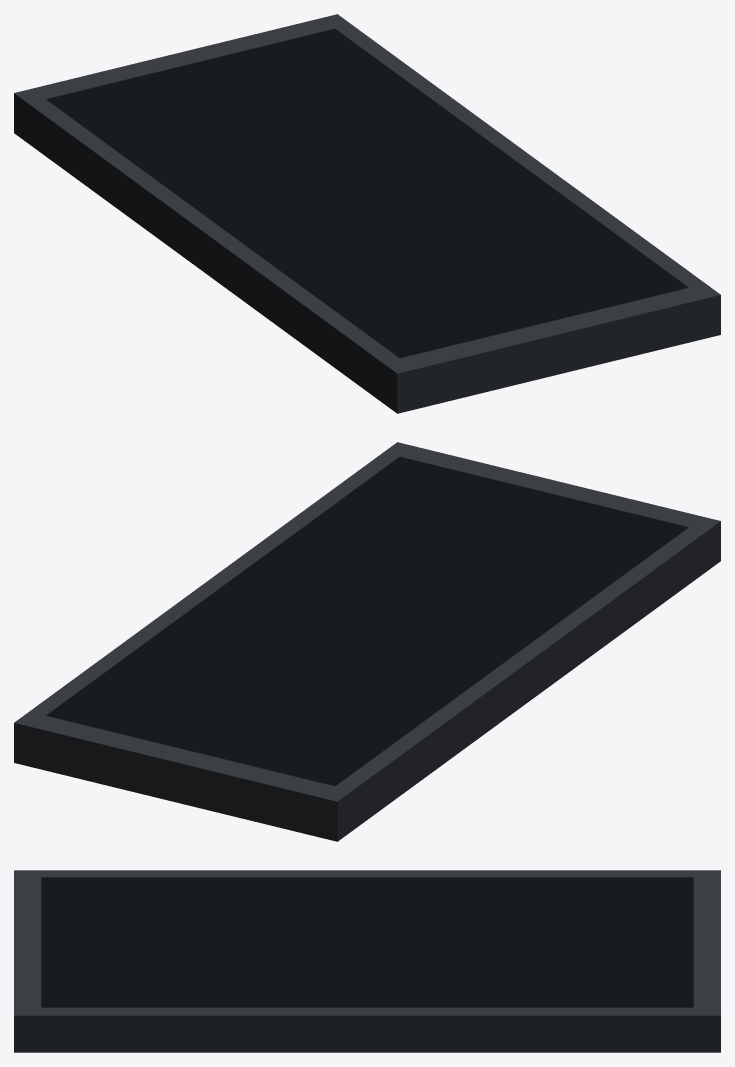
Rendered from phone.glb.
The picture shows the model from 3 angles, top to bottom: view 1: azimuth 30°, elevation 25°; view 2: azimuth 150°, elevation 25°; view 3: azimuth 270°, elevation 25°; orthographic projection. The views are drawn at different scales.
Parts seen in each view (by area): view 1: Phone; view 2: Phone; view 3: Phone.
Part boxes in pixels (<box>): Phone: <box>14,14,720,413</box>; Phone: <box>14,442,720,841</box>; Phone: <box>14,870,720,1052</box>.
Size of the model in its own units: 0.076 by 0.0091 by 0.156.
Materials: 1 (1 with a texture image).
